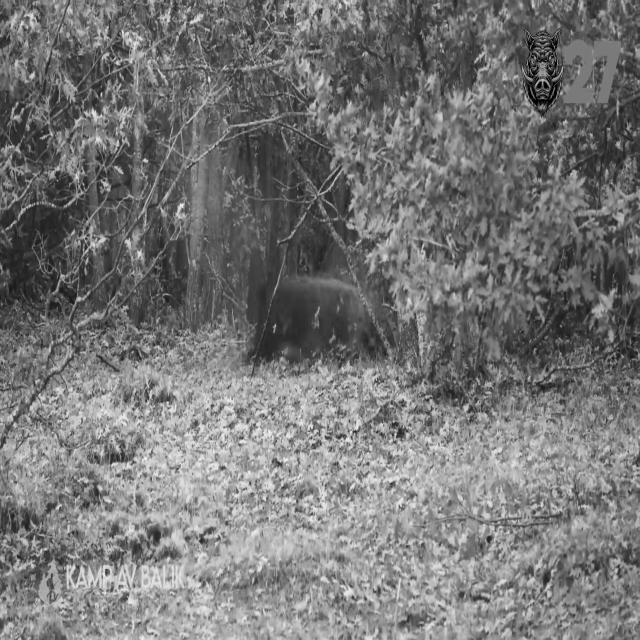boar: (260, 276, 372, 362), (521, 28, 563, 115)
